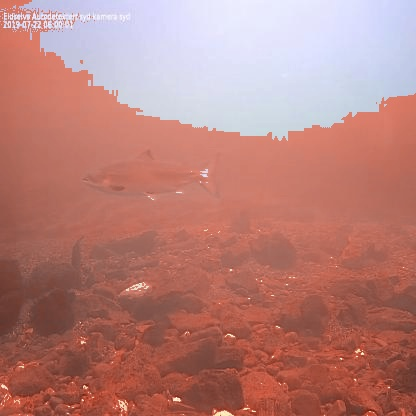salmon: (78, 145, 225, 205)
